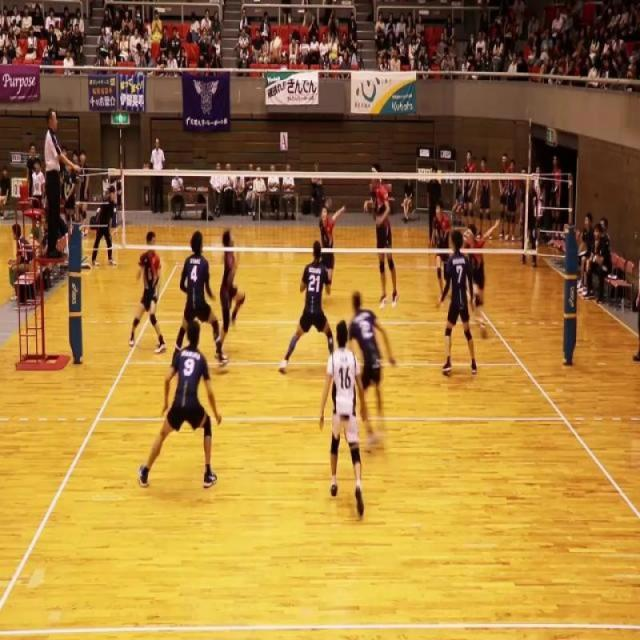volleyball: (272, 35, 282, 55)
